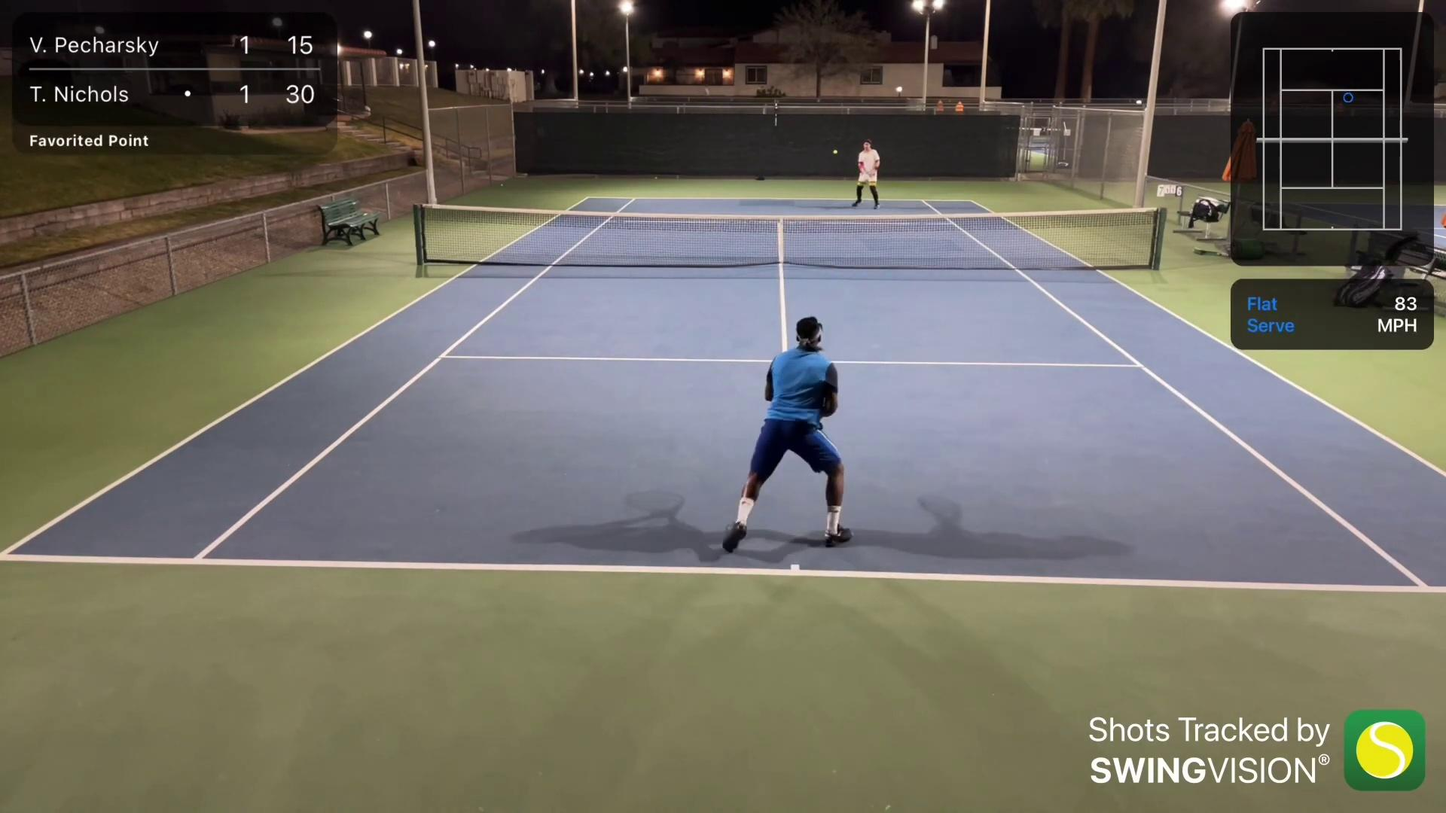ball: (832, 148, 839, 155)
